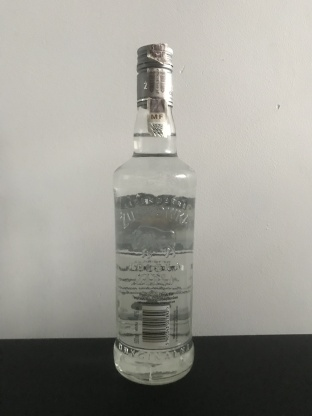nakretka: (134, 40, 175, 109)
